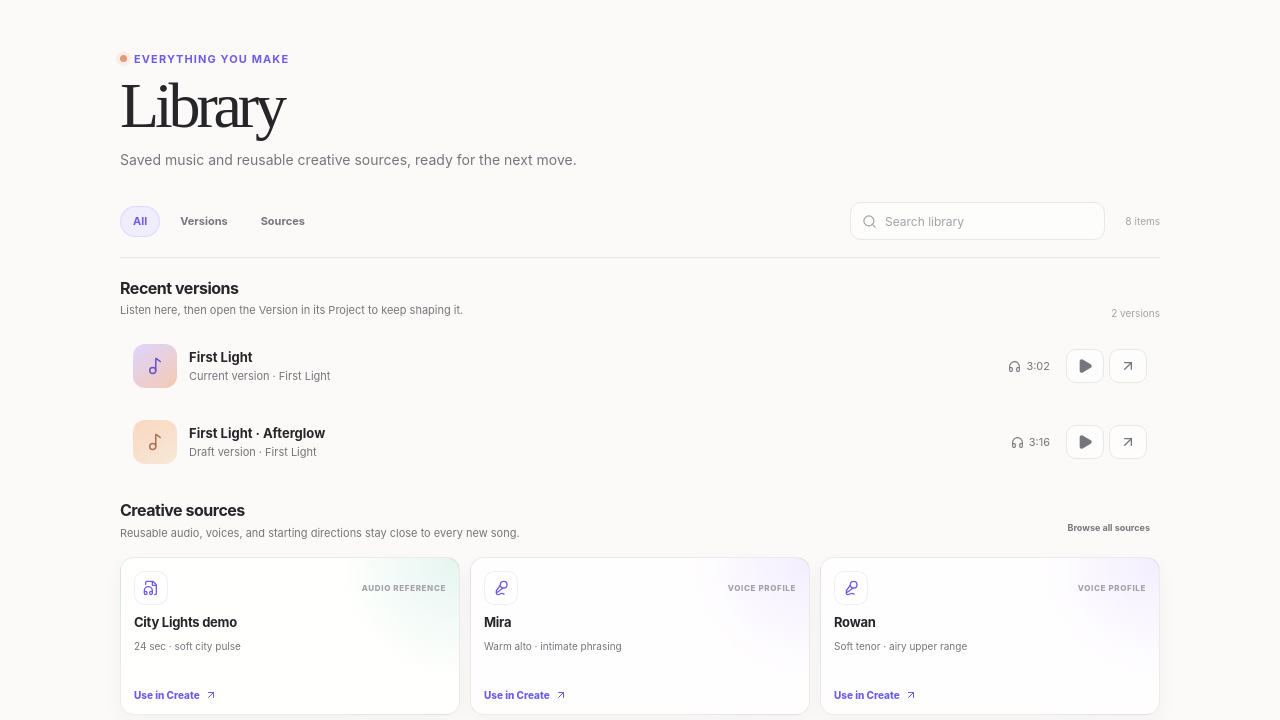
Test: Mori catalog surfaces › keeps reusable creative sources in a progressive Library shelf
This screenshot has width=1280, height=720.
Click the button "Sources": x=283, y=221 248,206 -> 318,237
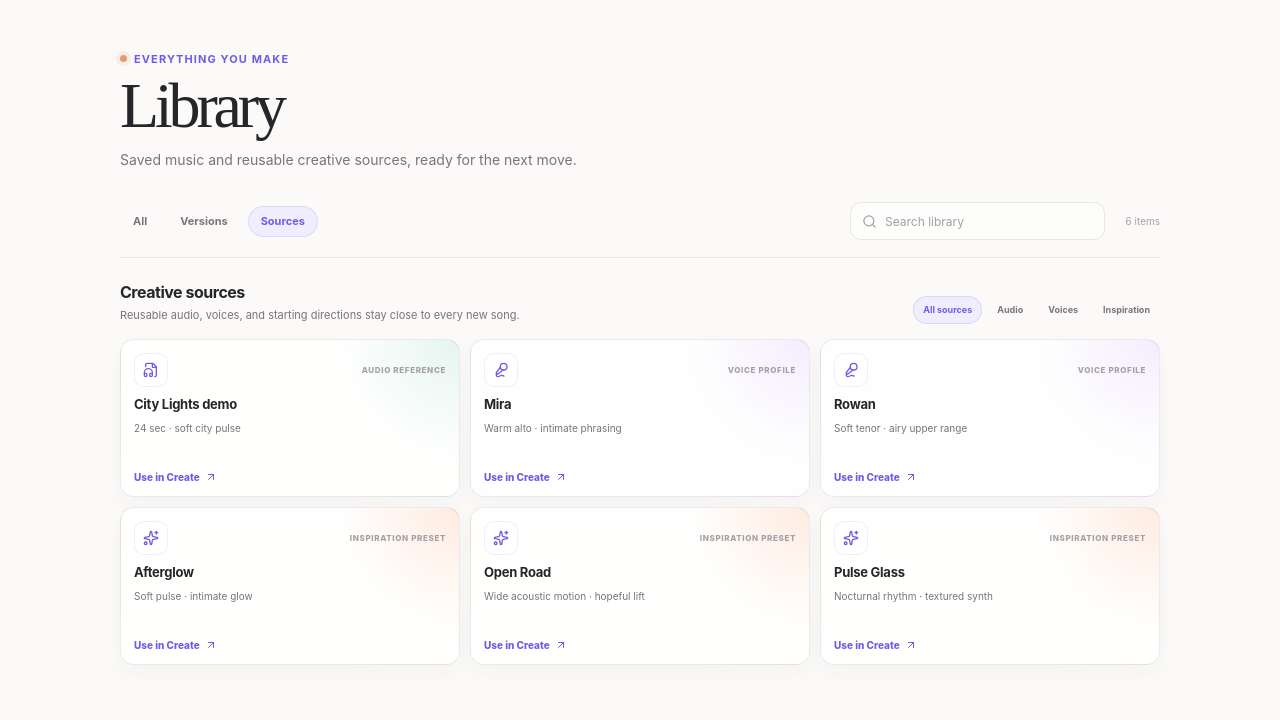
Expected: the element named "Creative source library" shows "City Lights demo", 134,396 -> 237,412
Expected: the element named "Creative source library" shows "Mira", 484,396 -> 511,412
Click the button "Voices": x=1063, y=310 1038,296 -> 1088,324
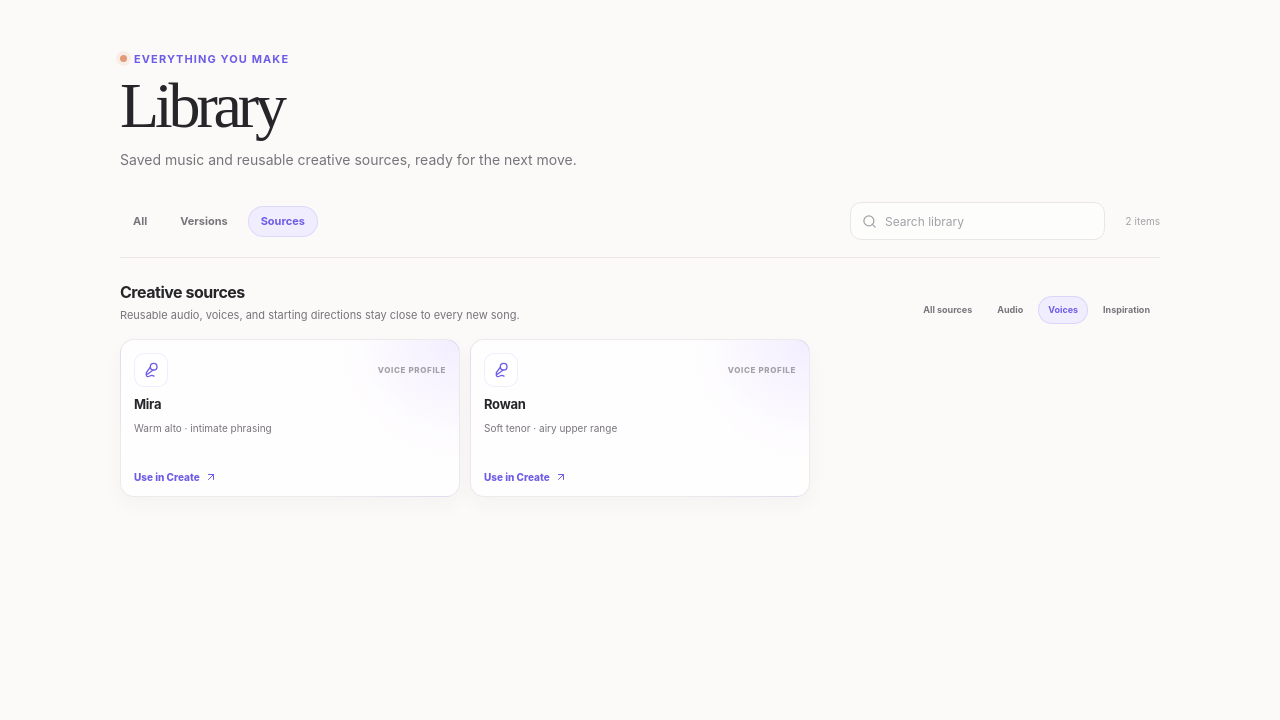
Expected: the element named "Creative source library" shows "Mira", 134,396 -> 161,412
Result: the element named "Creative source library" no longer shows "City Lights demo" at 120,282 -> 1160,497
Result: the element named "Creative source library" no longer shows "Open Road" at 120,282 -> 1160,497
